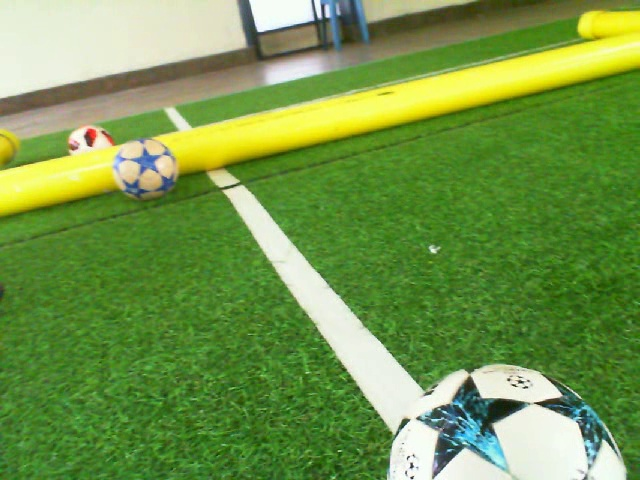ball: (384, 361, 631, 480), (112, 135, 181, 203), (65, 121, 112, 157)
